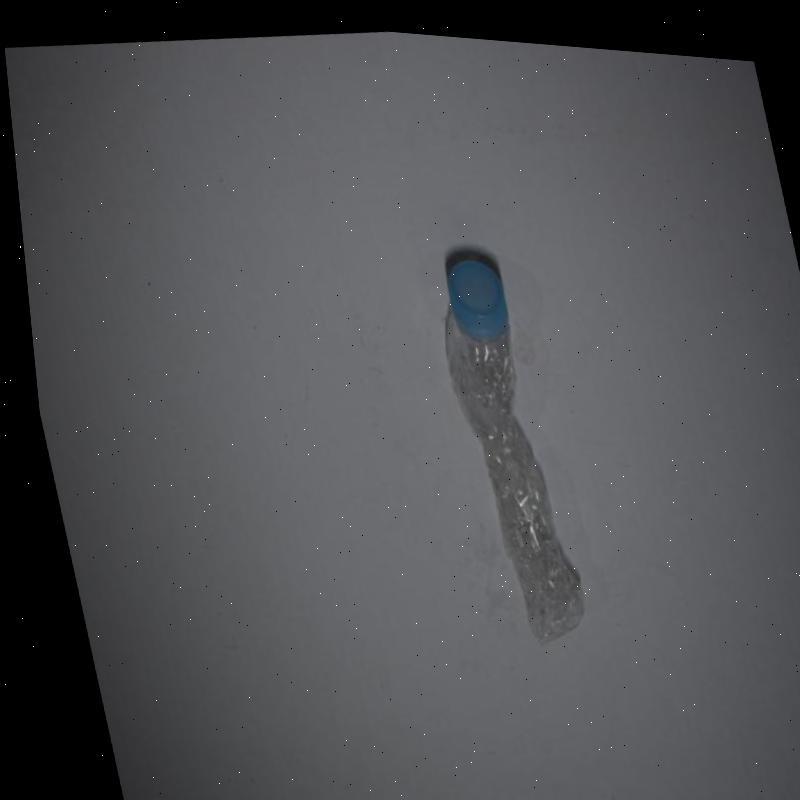botella: (413, 235, 583, 639)
